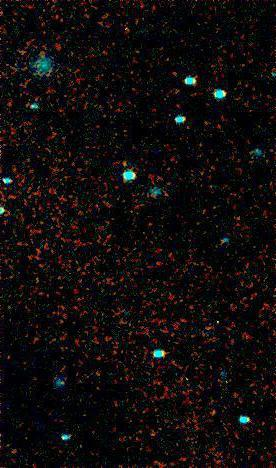star: (109, 148, 139, 178)
